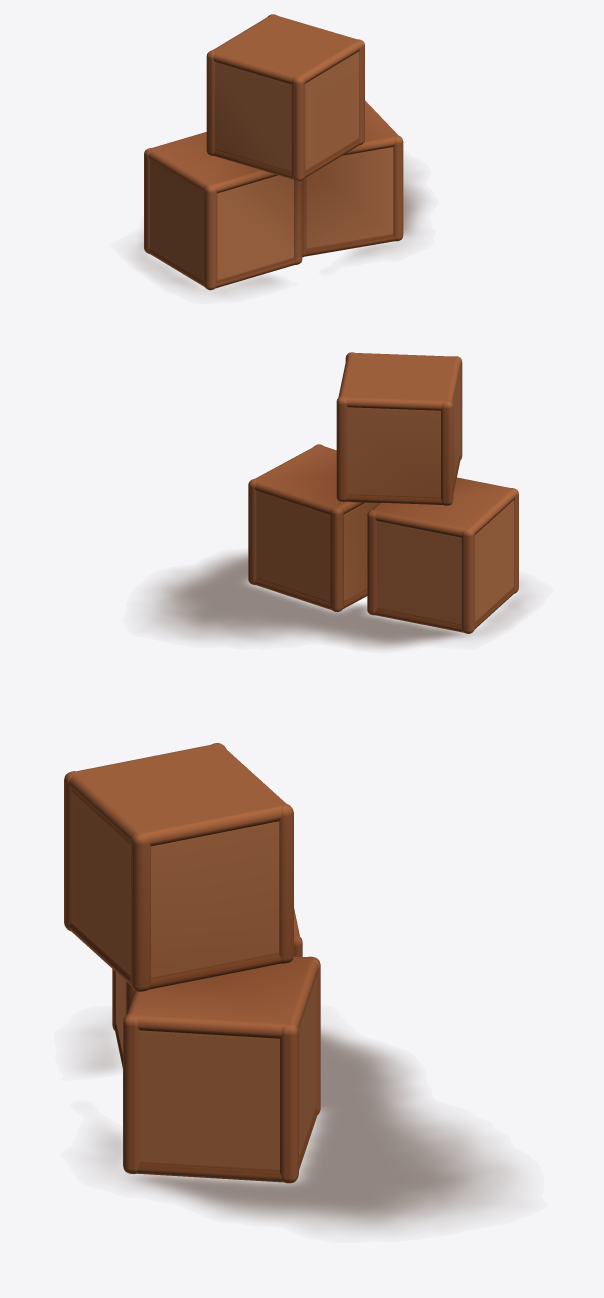
The model's file is prop_crates.glb.
3 renders of one model, top to bottom at view 1: azimuth 30°, elevation 25°; view 2: azimuth 150°, elevation 25°; view 3: azimuth 270°, elevation 25°, orthographic. The views are drawn at different scales.
Parts seen in each view (by area): view 1: c3, c1, c2, c3_bandx1, c1_bandx1, baked_shadow, c3_post-1-1, c1_post-1-1, c2_bandx1, c2_post1-1, c1_bandx-1, c3_bandx-1 (+5 smaller); view 2: baked_shadow, c1, c3, c2, c3_bandx1, c1_bandx1, c2_bandx1, c2_post-11, c1_post-11, c3_post-11, c3_post11, c1_post11 (+5 smaller); view 3: baked_shadow, c3, c2, c3_bandx1, c2_bandx1, c3_post1-1, c2_post11, c2_post1-1, c3_post11, c3_bandx-1, c2_bandx-1, c3_post-1-1 (+1 smaller).
Boxes of the visible parts, box(x1,y1,x2,y2) form: c3: box(215, 51, 358, 172); c1: box(150, 160, 293, 280); c2: box(306, 147, 393, 249); c3_bandx1: box(213, 15, 360, 84); c1_bandx1: box(148, 132, 277, 193); baked_shadow: box(136, 168, 424, 293); c3_post-1-1: box(291, 76, 305, 181); c1_post-1-1: box(203, 184, 217, 290); c2_bandx1: box(342, 100, 397, 155); c2_post1-1: box(393, 135, 403, 241); c1_bandx-1: box(148, 248, 295, 288); c3_bandx-1: box(213, 139, 360, 179); baked_shadow: box(150, 553, 525, 647); c1: box(376, 500, 513, 625); c3: box(348, 369, 459, 498); c2: box(256, 491, 378, 602); c3_bandx1: box(338, 353, 460, 410); c1_bandx1: box(372, 477, 515, 537); c2_bandx1: box(254, 445, 364, 514); c2_post-11: box(330, 506, 343, 611); c1_post-11: box(461, 528, 474, 633); c3_post-11: box(441, 400, 453, 505); c3_post11: box(336, 396, 347, 501); c1_post11: box(367, 509, 376, 615); baked_shadow: box(85, 1028, 510, 1229); c3: box(71, 790, 279, 979); c2: box(139, 976, 316, 1171); c3_bandx1: box(69, 744, 285, 846); c2_bandx1: box(126, 956, 318, 1038); c3_post1-1: box(130, 832, 150, 991); c2_post11: box(280, 1023, 298, 1183); c2_post1-1: box(123, 1013, 139, 1174); c3_post11: box(279, 803, 293, 963); c3_bandx-1: box(69, 922, 281, 989); c2_bandx-1: box(137, 1108, 318, 1182); c3_post-1-1: box(64, 771, 75, 931).
Bounding box in the file's own units: 4.72 × 2.42 × 4.03.
Materials: 3 (1 with a texture image).
